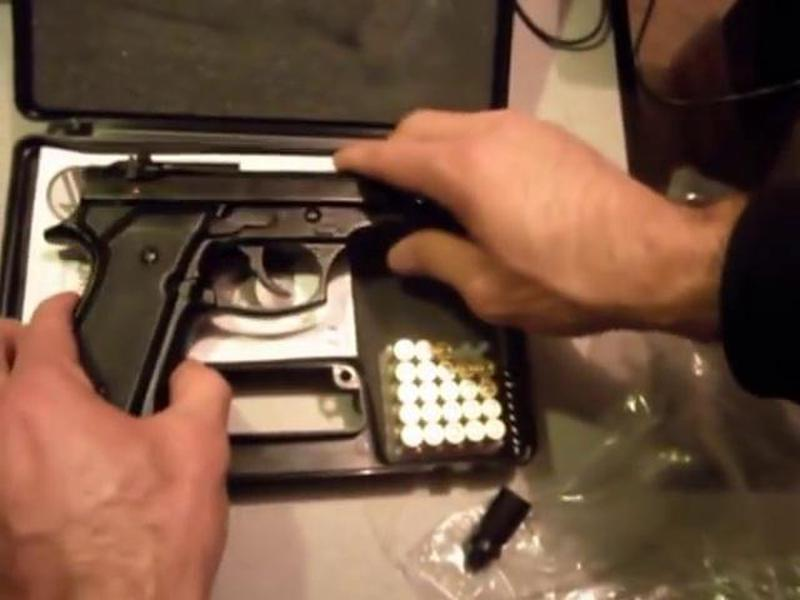Pistola: (30, 154, 521, 449)
